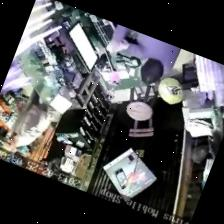person: (108, 25, 179, 83), (2, 89, 51, 151)
